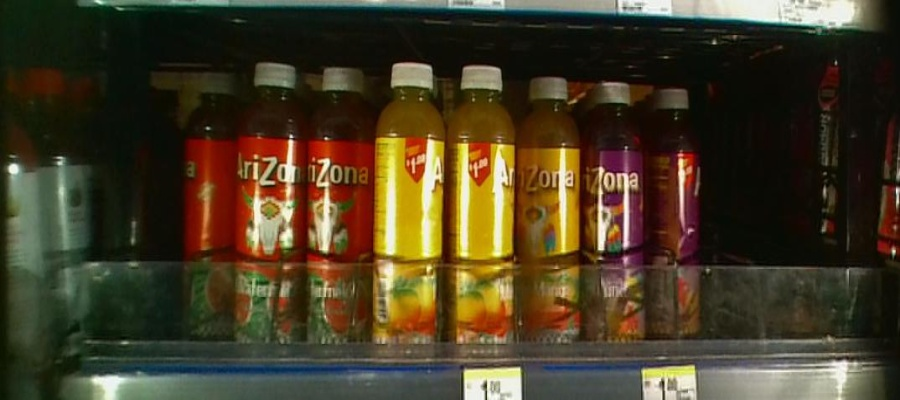bottle: (446, 43, 515, 364), (303, 43, 374, 353), (376, 57, 445, 365), (235, 62, 303, 359), (521, 62, 587, 366), (587, 64, 648, 357), (649, 62, 706, 352), (180, 68, 231, 354)
